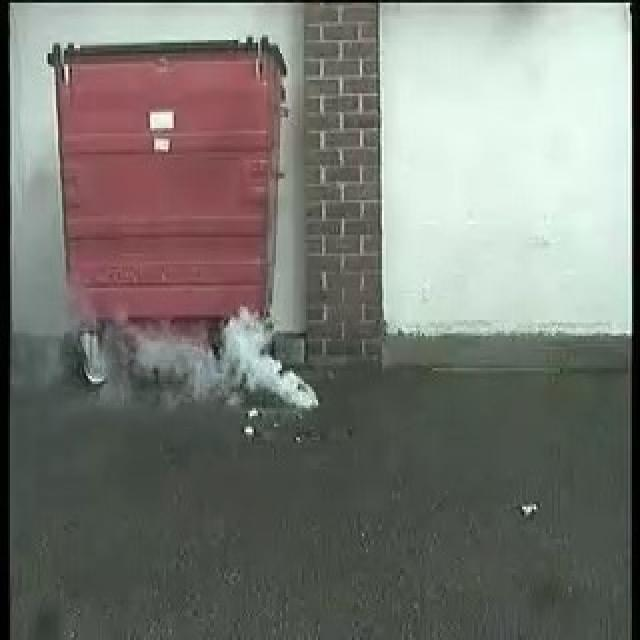smoke: (128, 308, 317, 406)
